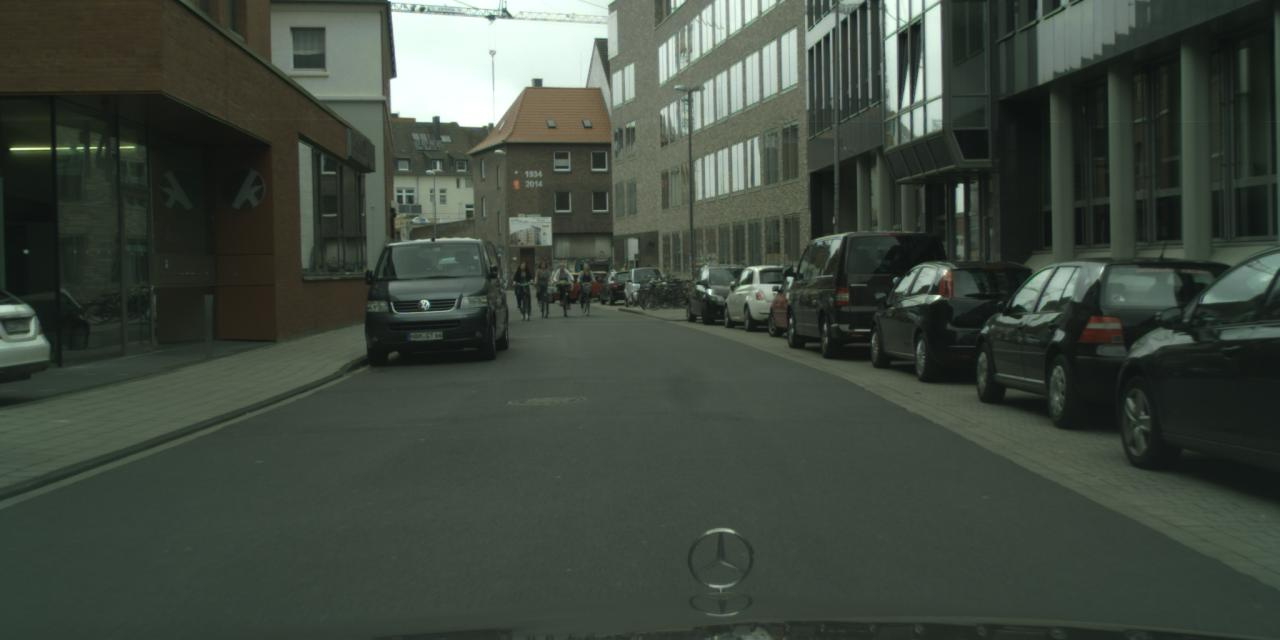ped: (513, 262, 533, 310), (534, 260, 552, 306), (554, 262, 572, 306), (578, 262, 594, 305)
